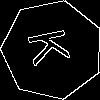K: (27, 25, 80, 67)
